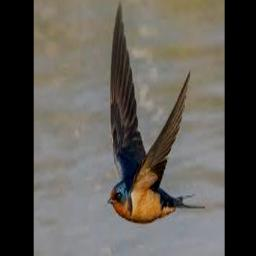Swallow: (107, 1, 205, 223)
